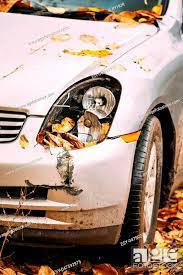front-bumper-dent: (0, 138, 150, 249)
